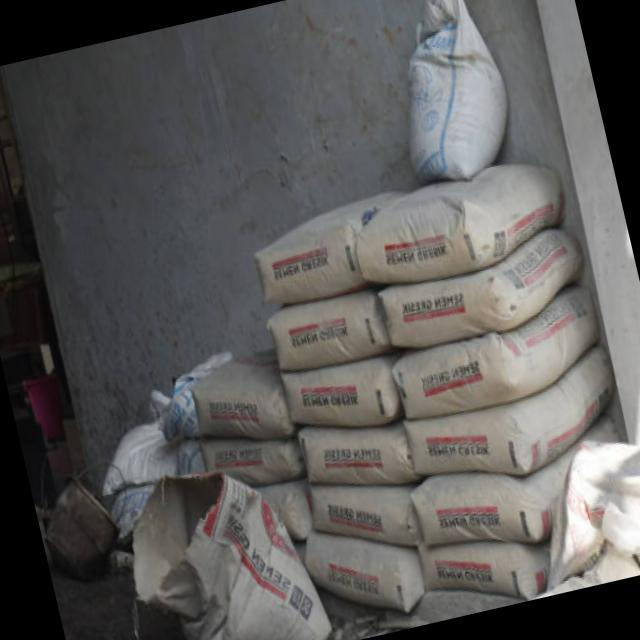KantongSemen: (248, 285, 448, 617), (239, 148, 579, 320), (110, 434, 332, 640), (394, 341, 624, 486), (382, 276, 613, 420), (371, 214, 597, 356)
